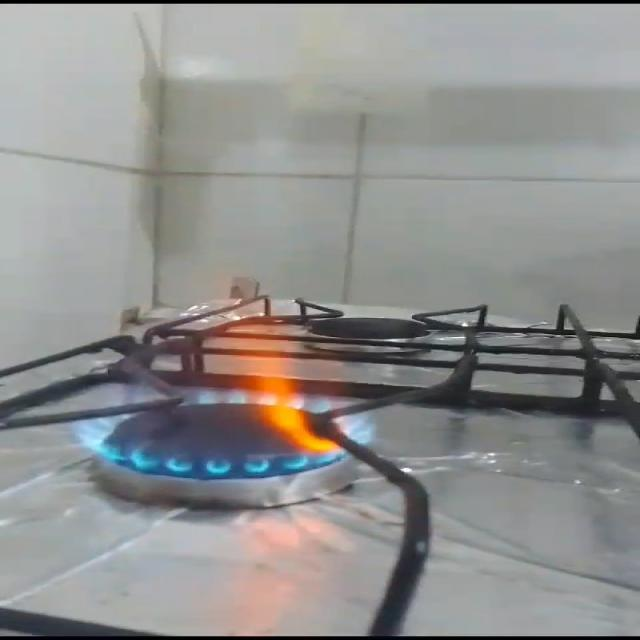fogo-ypXI: (69, 278, 388, 481)
